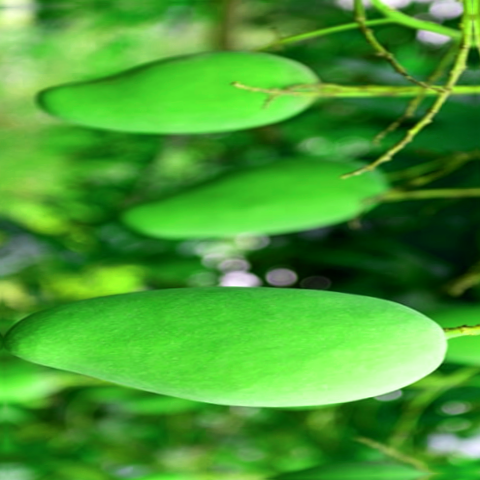mango: (2, 259, 463, 437), (100, 143, 401, 252), (28, 38, 331, 142)
